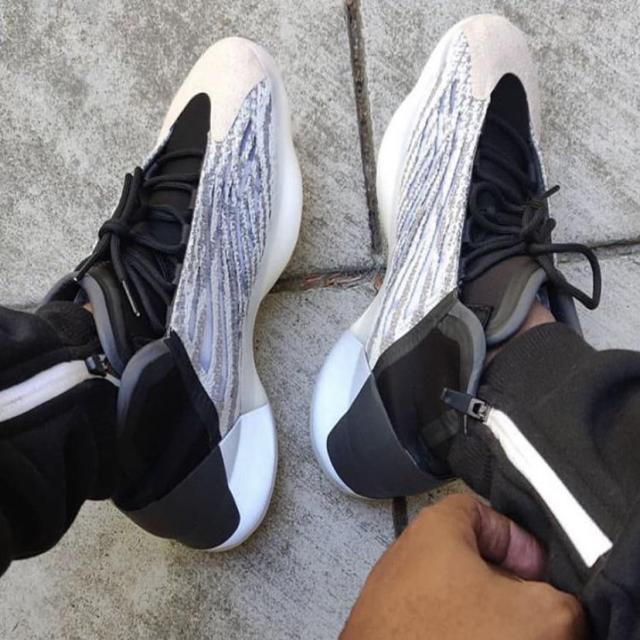shoes: (310, 13, 604, 503), (39, 33, 307, 555)
